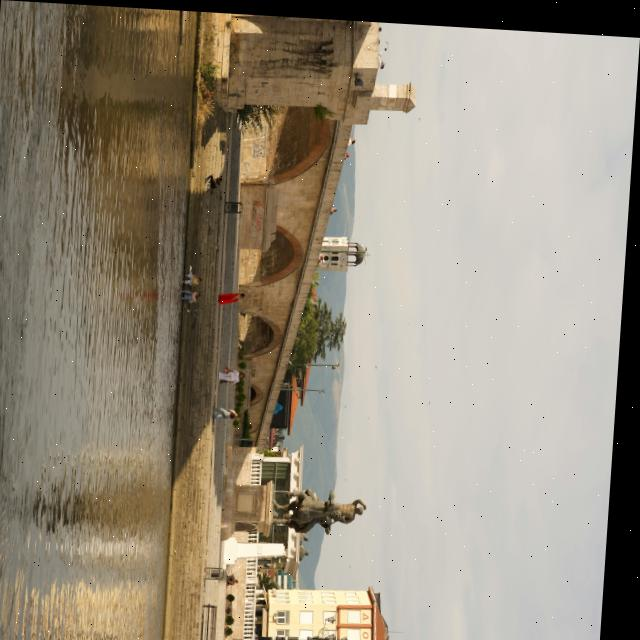Stone Bridge: (226, 15, 389, 464)
